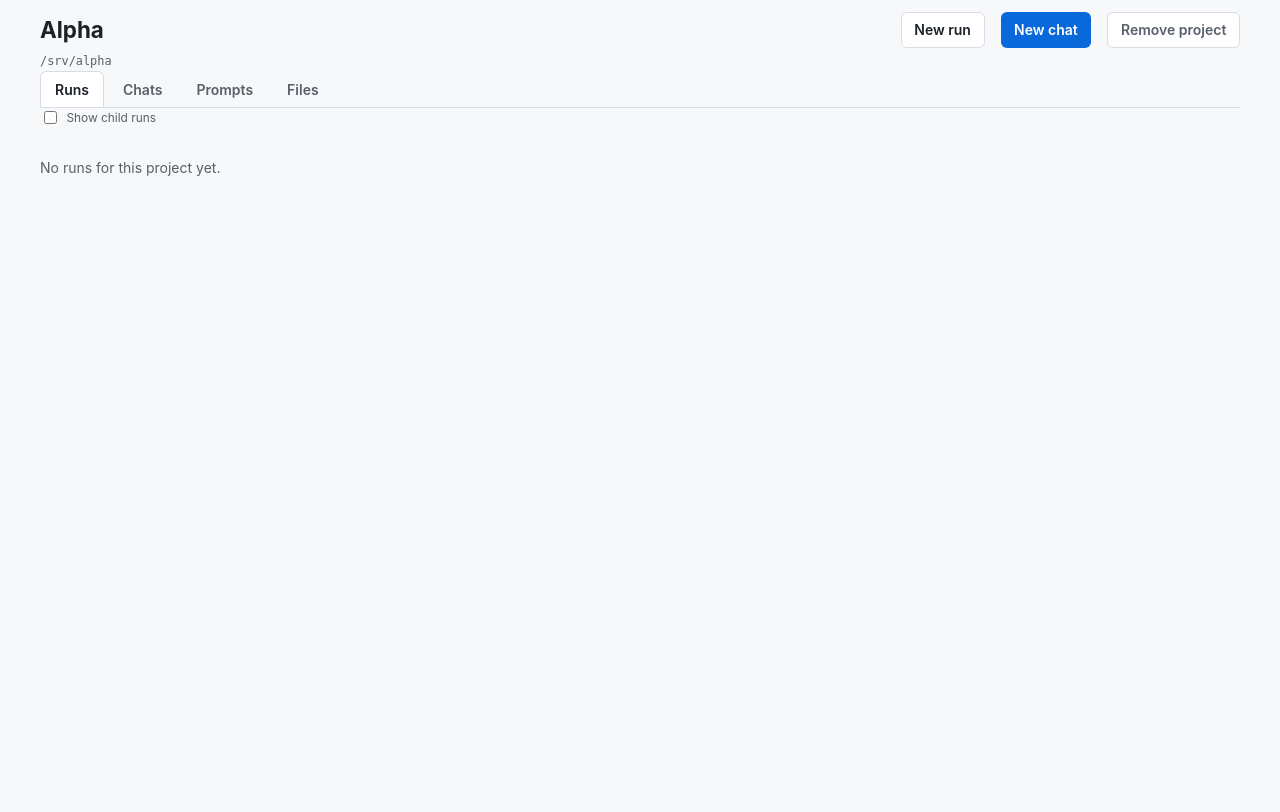
Scenario: ProjectView › W8: New prompt opens the create editor; saving selects the new prompt
Click the tab with test id "tab-prompts" at (225, 89), box [181, 71, 268, 107]
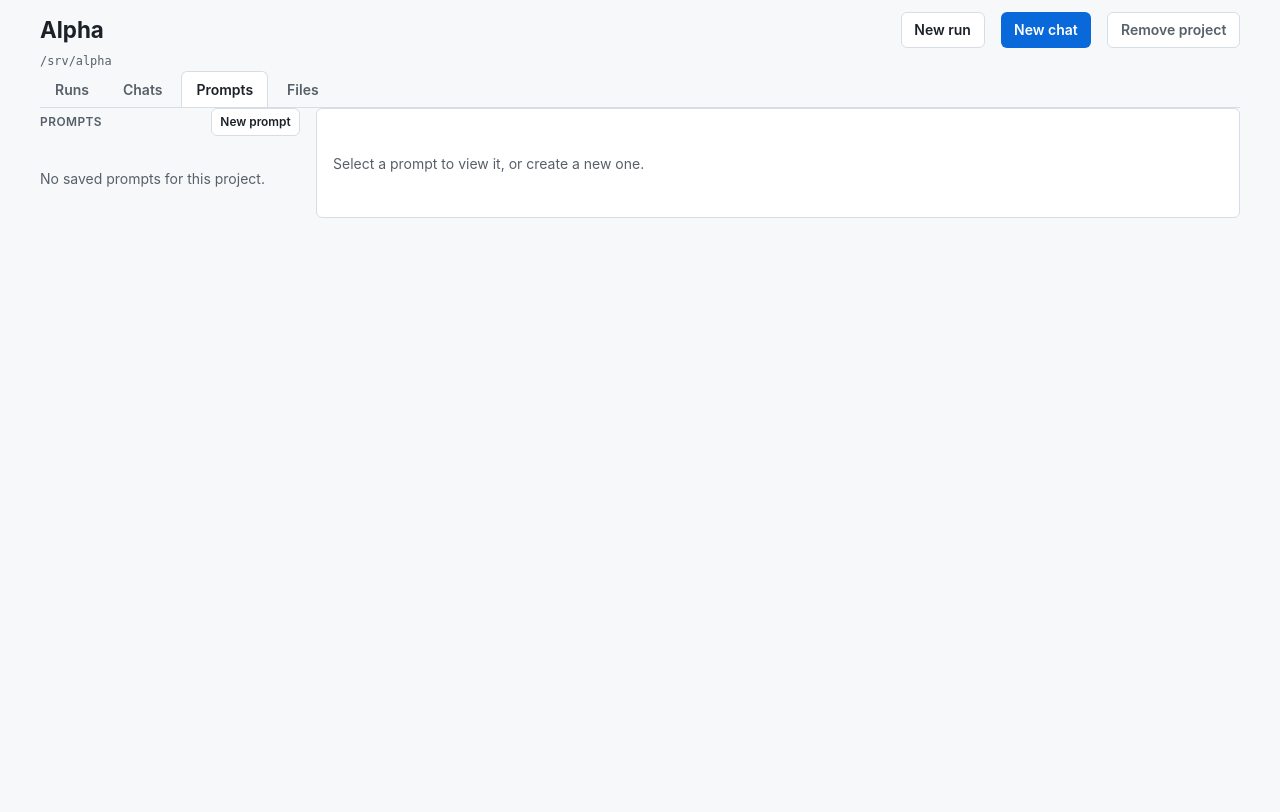
Click the button with test id "new-prompt-button" at (256, 122), box [211, 108, 300, 136]
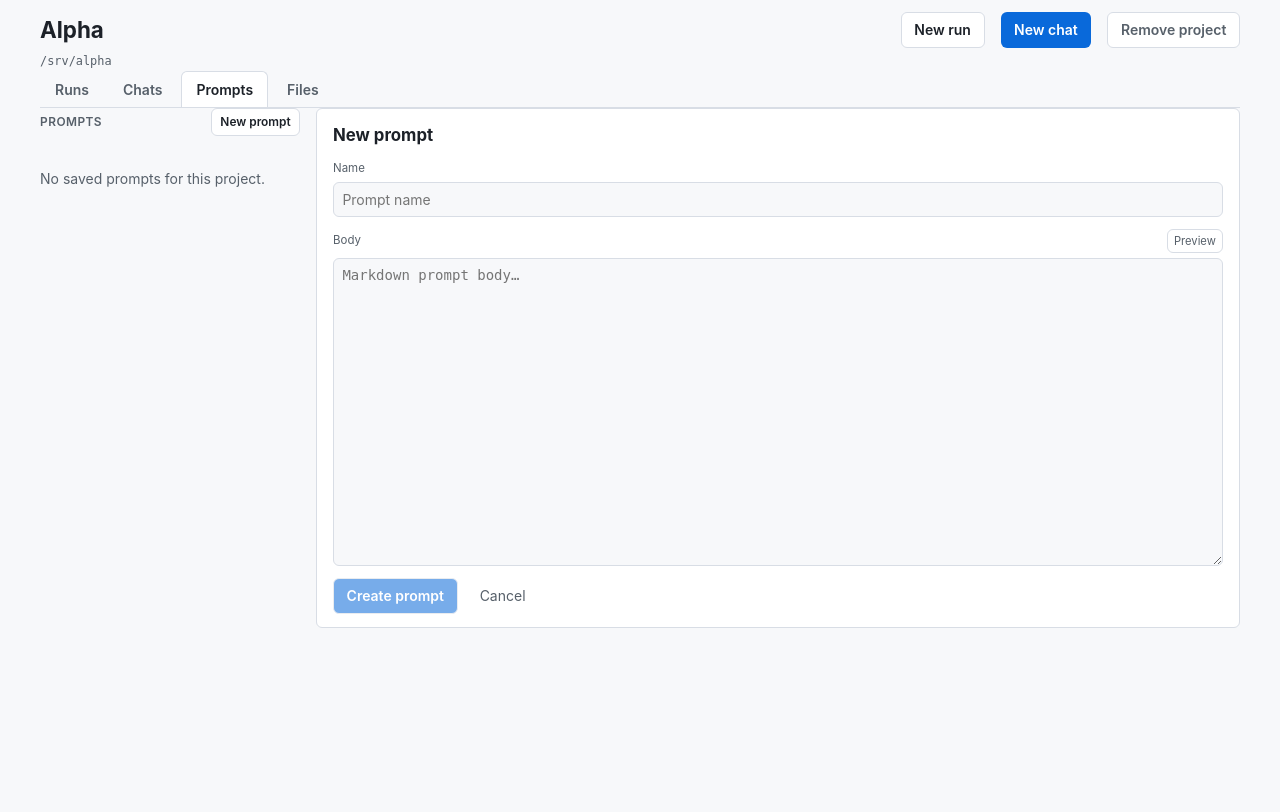
Expected: the form with test id "prompt-editor" is shown, [333, 123, 1223, 614]
Type "Fresh" into the field with test id "prompt-name" at (778, 200), box [333, 182, 1223, 217]
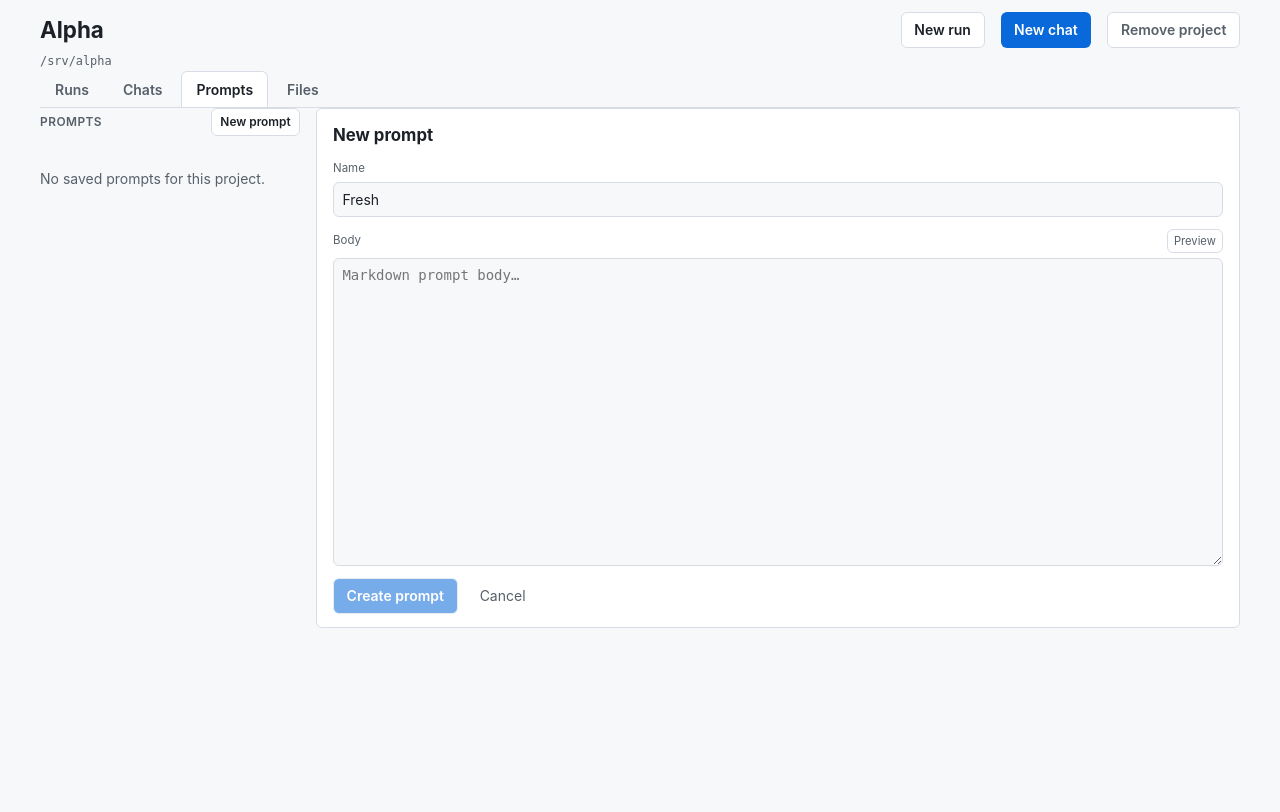
Type "# fresh body" into the text box with test id "prompt-body" at (778, 412), box [333, 258, 1223, 566]
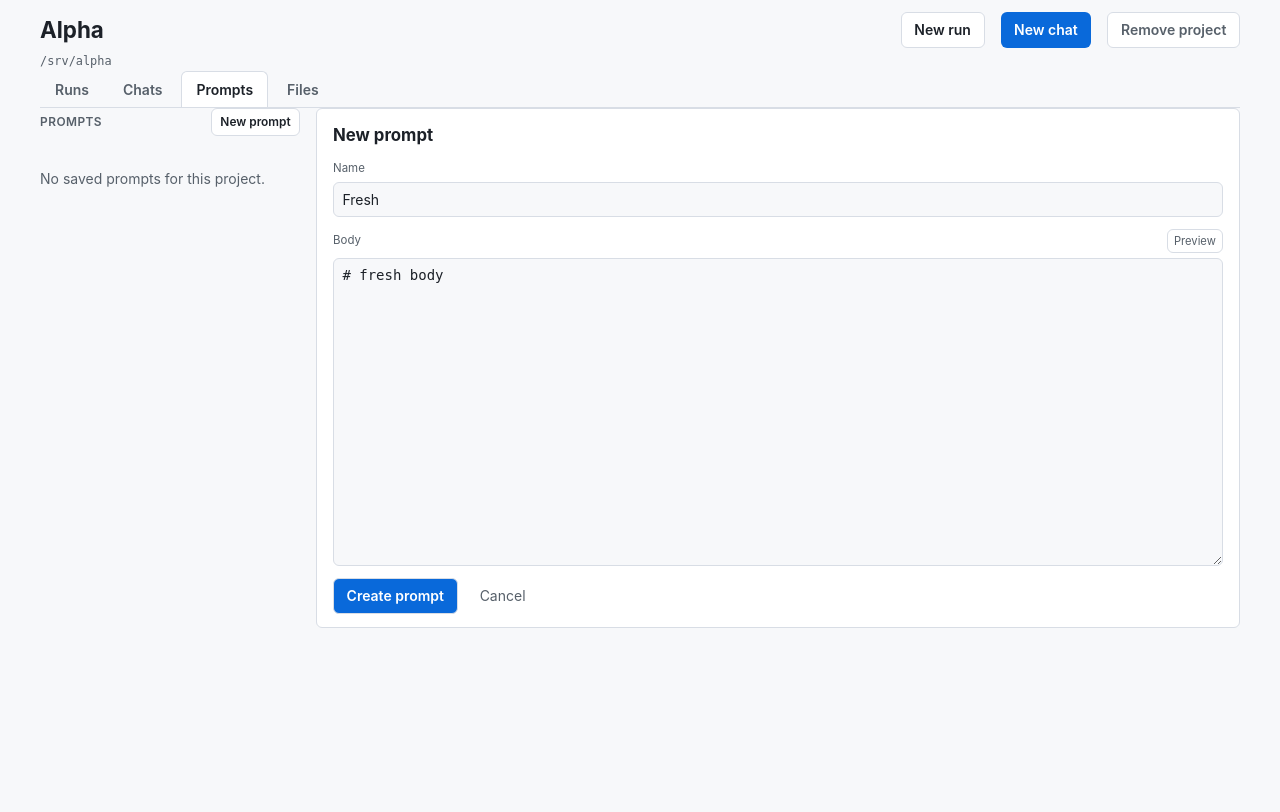
Submit the form with test id "prompt-editor", box [333, 123, 1223, 614]
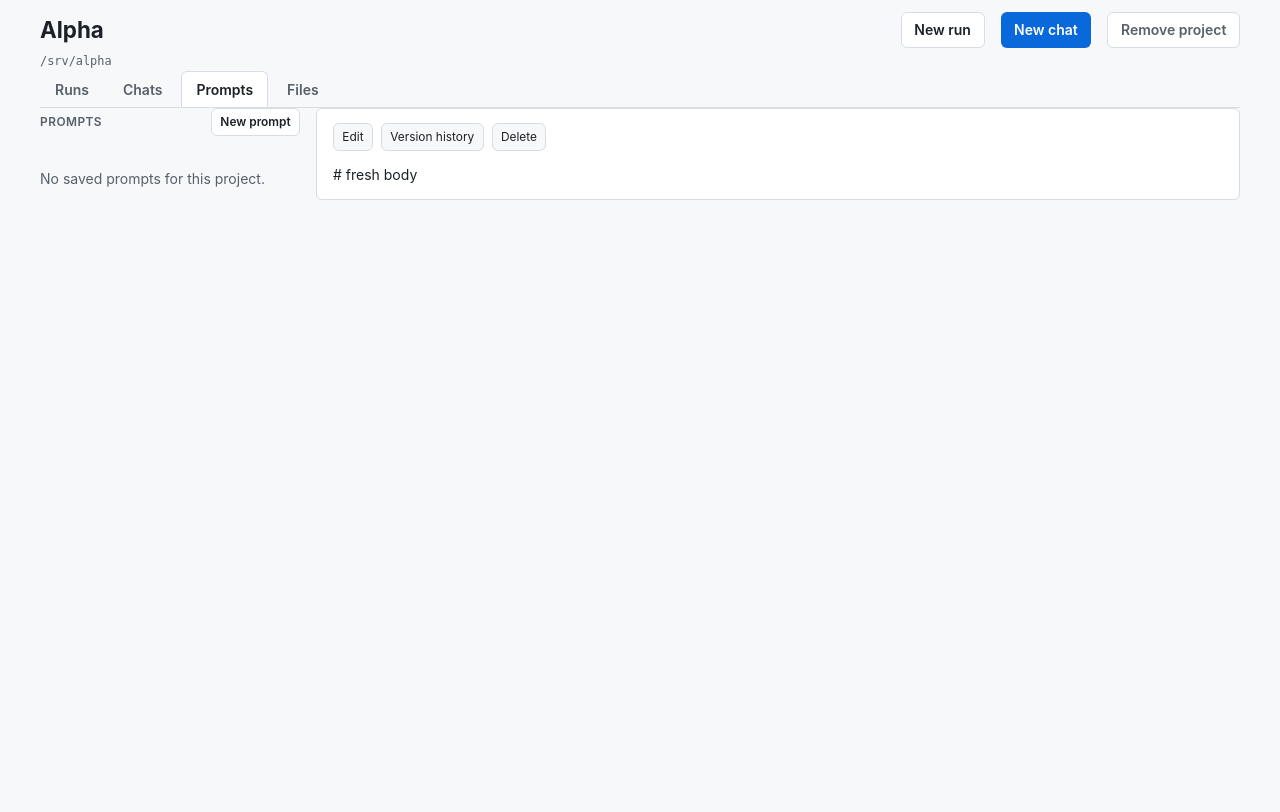
Expected: the text with class "md-stub" reads "# fresh body", [333, 166, 417, 183]
